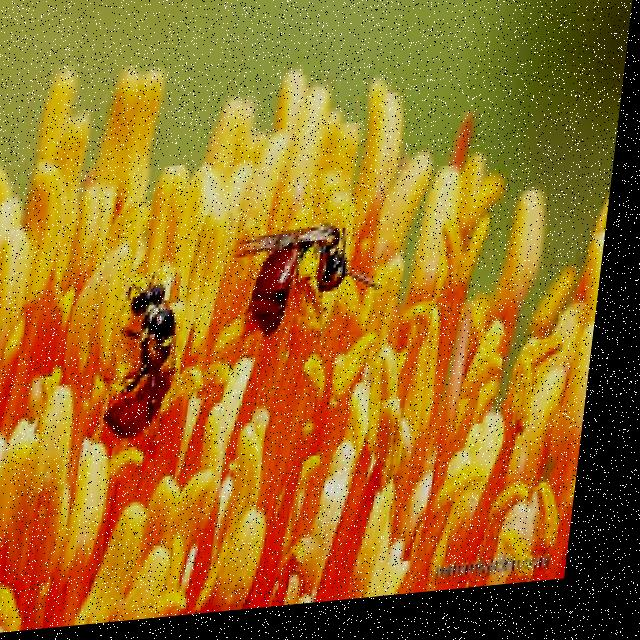Allodapula: (229, 206, 387, 355), (105, 259, 204, 450)
